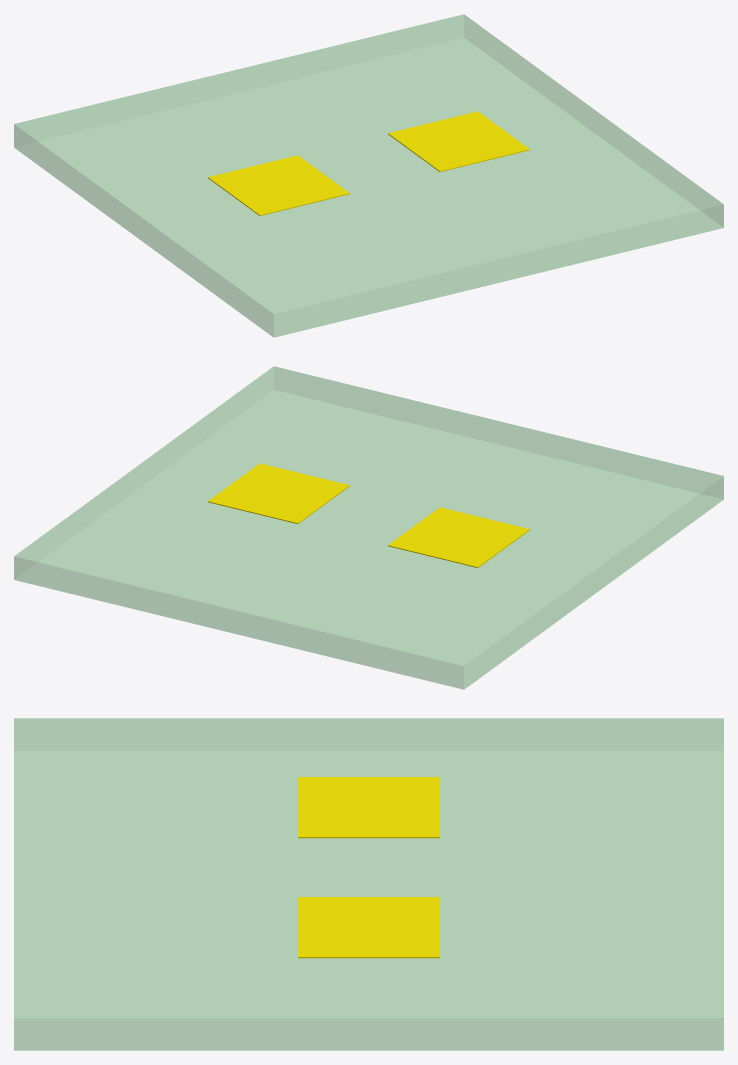
The model's file is board.glb.
3 views of the same model, one above another, from view 1: azimuth 30°, elevation 25°; view 2: azimuth 150°, elevation 25°; view 3: azimuth 270°, elevation 25° (orthographic). The views are drawn at different scales.
Visible parts, largest first — view 1: Substrate_Layer_0_Z0, Substrate_Layer_1_Z0, Substrate_Layer_2_Z0; view 2: Substrate_Layer_0_Z0, Substrate_Layer_1_Z0, Substrate_Layer_2_Z0; view 3: Substrate_Layer_0_Z0, Substrate_Layer_1_Z0, Substrate_Layer_2_Z0.
Boxes of the visible parts, x1,y1,x2,y2 form: Substrate_Layer_0_Z0: (14, 14, 723, 337); Substrate_Layer_1_Z0: (208, 155, 349, 215); Substrate_Layer_2_Z0: (388, 111, 529, 171); Substrate_Layer_0_Z0: (14, 366, 723, 689); Substrate_Layer_1_Z0: (388, 507, 529, 567); Substrate_Layer_2_Z0: (208, 463, 349, 523); Substrate_Layer_0_Z0: (14, 718, 723, 1050); Substrate_Layer_1_Z0: (298, 777, 439, 838); Substrate_Layer_2_Z0: (298, 897, 439, 958).
Bounding box in the file's own units: 0.1 × 0.0052 × 0.1.
